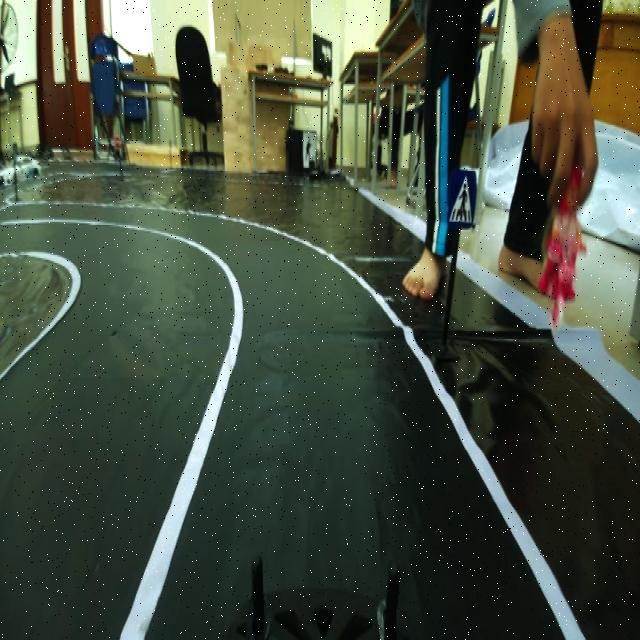crosswalk: (447, 167, 477, 232)
